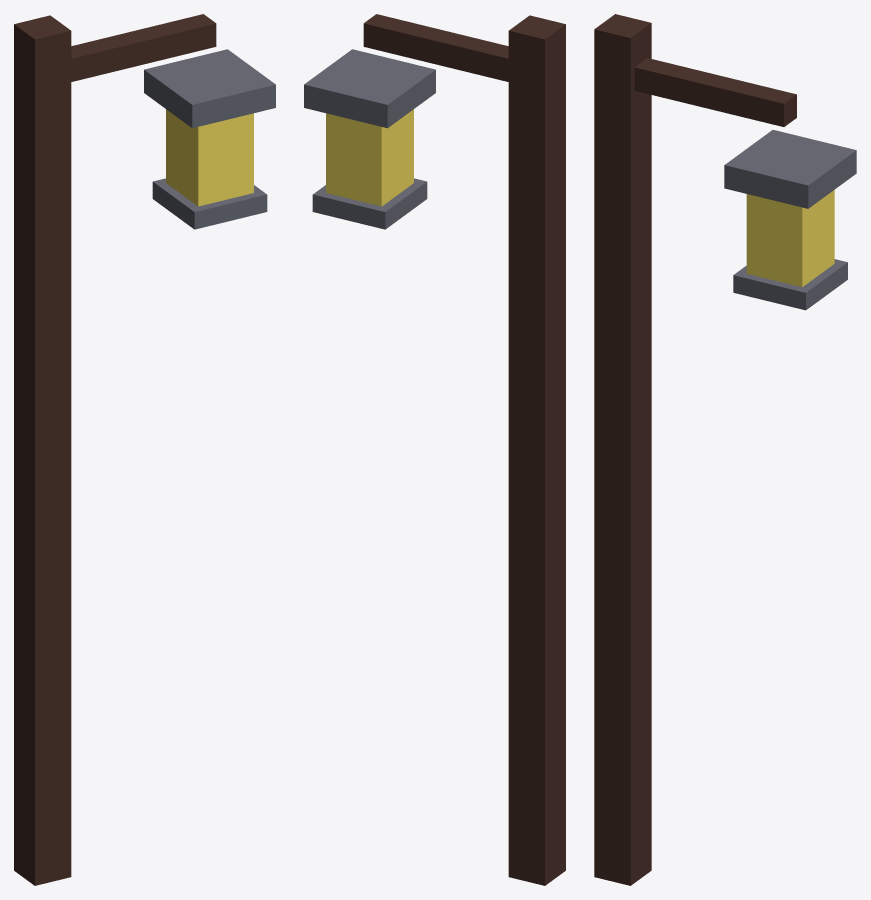
File: lantern_post.glb
The picture shows the model from 3 angles, left to right: view 1: azimuth 30°, elevation 25°; view 2: azimuth 150°, elevation 25°; view 3: azimuth 330°, elevation 25°; orthographic projection.
Visible parts, largest first — view 1: pole, lamp_top, lamp, arm, lamp_base; view 2: pole, lamp_top, lamp, arm, lamp_base; view 3: pole, lamp_top, lamp, arm, lamp_base.
Part boxes in pixels (left/top/right/bottom): pole: left=14, top=15, right=71, bottom=885; lamp_top: left=144, top=49, right=275, bottom=128; lamp: left=166, top=109, right=253, bottom=206; arm: left=71, top=14, right=216, bottom=81; lamp_base: left=152, top=178, right=267, bottom=229; pole: left=508, top=15, right=565, bottom=885; lamp_top: left=304, top=49, right=435, bottom=128; lamp: left=326, top=109, right=413, bottom=206; arm: left=363, top=14, right=508, bottom=81; lamp_base: left=312, top=178, right=427, bottom=229; pole: left=594, top=14, right=651, bottom=885; lamp_top: left=724, top=130, right=856, bottom=208; lamp: left=746, top=190, right=834, bottom=287; arm: left=634, top=58, right=796, bottom=126; lamp_base: left=733, top=259, right=847, bottom=310.
Bounding box in the file's own units: 0.815 × 2.9 × 0.3.
